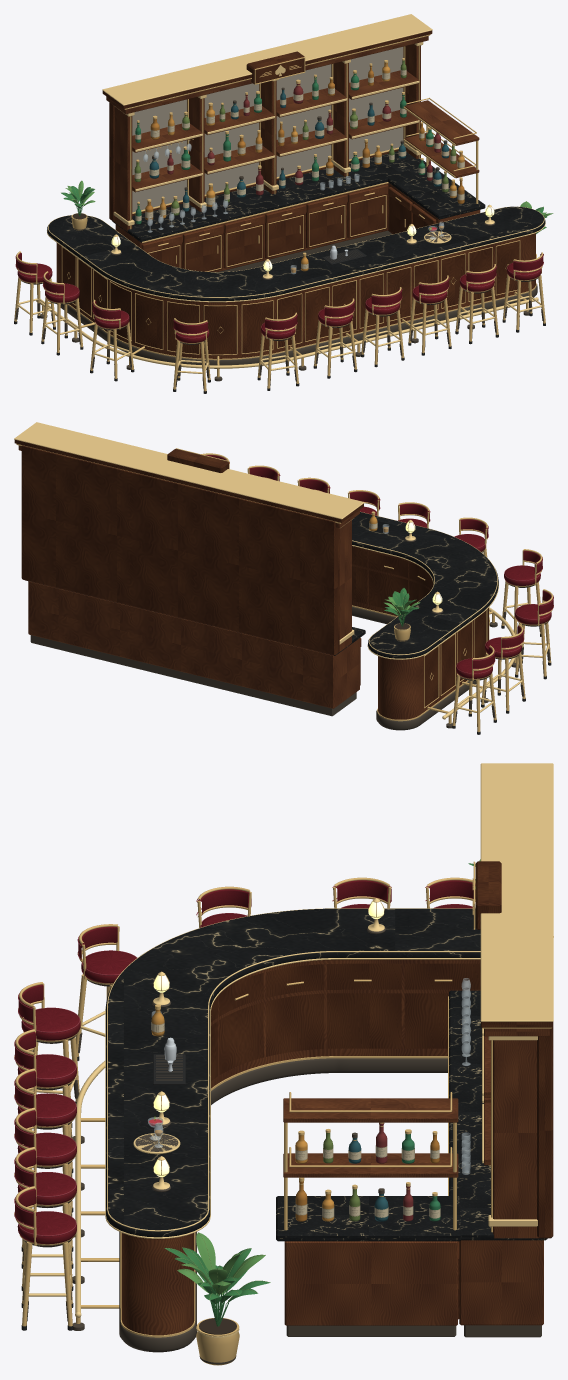
Rendered from casino_bar.glb.
3 views of the same model, one above another, from view 1: azimuth 30°, elevation 25°; view 2: azimuth 150°, elevation 25°; view 3: azimuth 270°, elevation 25° (orthographic). The views are drawn at different scales.
Parts seen in each view (by area): view 1: 01_Curved_Bar_Counter, 04_Mirrored_Back_Bar, 03_Back_Bar_Cabinet, 05_Return_Service_Cabinet, 07_Back_Shelf_Bottles_Row_1, 07_Back_Shelf_Bottles_Row_2, 07_Back_Shelf_Bottles_Row_3, 02_Brass_Foot_Rail, 06_Bar_Stool_09, 06_Bar_Stool_08, 06_Bar_Stool_06, 06_Bar_Stool_07 (+10 smaller); view 2: 04_Mirrored_Back_Bar, 01_Curved_Bar_Counter, 03_Back_Bar_Cabinet, 06_Bar_Stool_01, 06_Bar_Stool_04, 06_Bar_Stool_02, 06_Bar_Stool_03, 12_Counter_End_Plant, 06_Bar_Stool_05, 02_Brass_Foot_Rail, 06_Bar_Stool_06, 06_Bar_Stool_07; view 3: 01_Curved_Bar_Counter, 04_Mirrored_Back_Bar, 05_Return_Service_Cabinet, 03_Back_Bar_Cabinet, 13_Floor_Plant, 08_Return_Rack_Bottles, 06_Bar_Stool_10, 06_Bar_Stool_04, 06_Bar_Stool_05, 06_Bar_Stool_09, 11_Cocktail_Service, 02_Brass_Foot_Rail (+7 smaller).
Part boxes in pixels (x1,y1,x2,y2): 01_Curved_Bar_Counter: [47, 206, 545, 368]; 04_Mirrored_Back_Bar: [102, 14, 432, 231]; 03_Back_Bar_Cabinet: [112, 151, 426, 271]; 05_Return_Service_Cabinet: [386, 97, 485, 234]; 07_Back_Shelf_Bottles_Row_1: [135, 139, 406, 224]; 07_Back_Shelf_Bottles_Row_2: [134, 92, 406, 181]; 07_Back_Shelf_Bottles_Row_3: [135, 58, 406, 142]; 02_Brass_Foot_Rail: [36, 291, 538, 381]; 06_Bar_Stool_09: [455, 264, 498, 344]; 06_Bar_Stool_08: [408, 275, 451, 355]; 06_Bar_Stool_06: [313, 298, 357, 378]; 06_Bar_Stool_07: [361, 287, 404, 367]; 04_Mirrored_Back_Bar: [14, 422, 364, 655]; 01_Curved_Bar_Counter: [352, 511, 498, 730]; 03_Back_Bar_Cabinet: [25, 580, 365, 716]; 06_Bar_Stool_01: [452, 645, 496, 734]; 06_Bar_Stool_04: [501, 549, 542, 636]; 06_Bar_Stool_02: [481, 624, 525, 713]; 06_Bar_Stool_03: [514, 589, 553, 679]; 12_Counter_End_Plant: [384, 588, 420, 641]; 06_Bar_Stool_05: [454, 517, 488, 557]; 02_Brass_Foot_Rail: [427, 607, 516, 728]; 06_Bar_Stool_06: [398, 502, 430, 528]; 06_Bar_Stool_07: [348, 490, 380, 515]; 01_Curved_Bar_Counter: [105, 908, 553, 1352]; 04_Mirrored_Back_Bar: [472, 763, 553, 1238]; 05_Return_Service_Cabinet: [276, 1092, 461, 1336]; 03_Back_Bar_Cabinet: [448, 990, 547, 1337]; 13_Floor_Plant: [164, 1232, 270, 1365]; 08_Return_Rack_Bottles: [295, 1122, 440, 1221]; 06_Bar_Stool_10: [14, 1186, 76, 1330]; 06_Bar_Stool_04: [75, 924, 137, 1061]; 06_Bar_Stool_05: [18, 982, 80, 1127]; 06_Bar_Stool_09: [14, 1147, 76, 1290]; 11_Cocktail_Service: [133, 1004, 185, 1154]; 02_Brass_Foot_Rail: [72, 1061, 119, 1330].
Bounding box in the file's own units: 7.27 × 2.98 × 4.33.
Materials: 31 (7 with a texture image).
